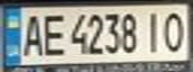2: (84, 10, 106, 55)
3: (103, 10, 124, 55)
4: (66, 10, 87, 56)
8: (118, 9, 142, 55)
A: (18, 10, 45, 58)
E: (39, 10, 69, 57)
I: (139, 8, 169, 54)
O: (160, 7, 190, 54)
